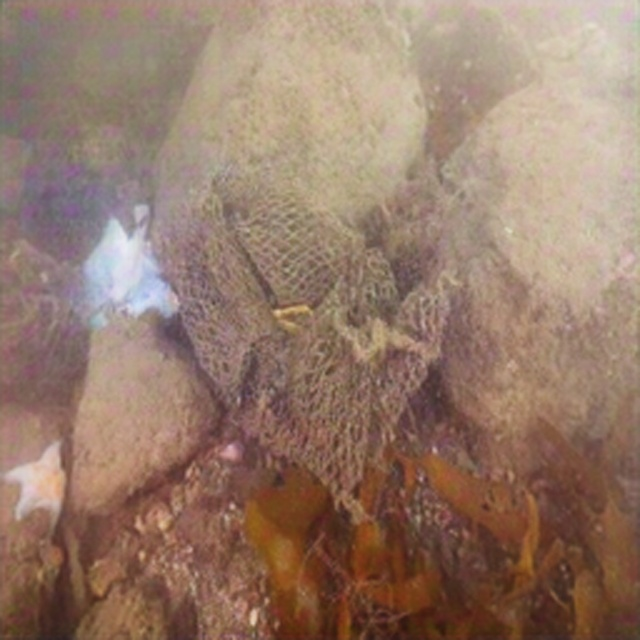mine: (167, 163, 448, 512)
